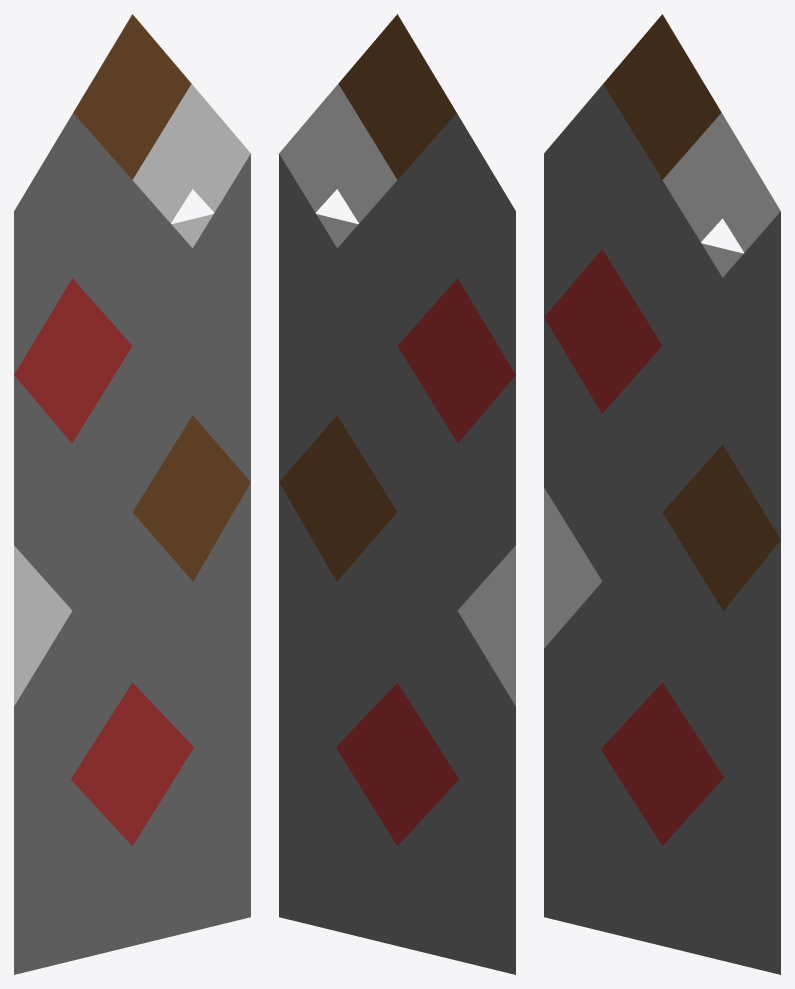
The model's file is window_all.fbx.
3 views of the same model, side by side, from view 1: azimuth 30°, elevation 25°; view 2: azimuth 150°, elevation 25°; view 3: azimuth 330°, elevation 25° (orthographic).
Parts seen in each view (by area): view 1: Plane.153; view 2: Plane.153; view 3: Plane.153.
Boxes of the visible parts, left/top/right/bottom form: Plane.153: left=14, top=14, right=250, bottom=974; Plane.153: left=279, top=14, right=515, bottom=974; Plane.153: left=544, top=14, right=780, bottom=974.
Bounding box in the file's own units: 7908 × 29741 × 0.00343.
